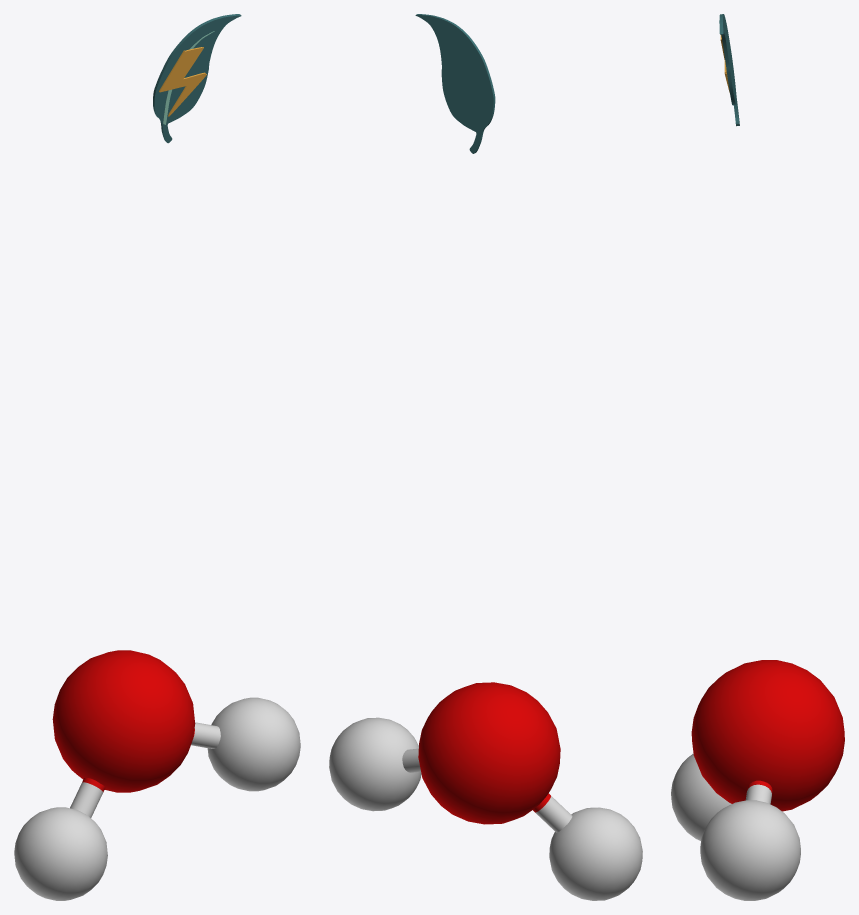
Rendered from ang.glb.
3 views of the same model, side by side, from view 1: azimuth 30°, elevation 25°; view 2: azimuth 150°, elevation 25°; view 3: azimuth 270°, elevation 25° (orthographic). The views are drawn at different scales.
Parts seen in each view (by area): view 1: AGUA_glss, path182, path186; view 2: AGUA_glss, path182; view 3: AGUA_glss, path182.
Boxes of the visible parts, left/top/right/bottom form: AGUA_glss: left=14, top=650, right=300, bottom=900; path182: left=153, top=14, right=241, bottom=143; path186: left=159, top=47, right=206, bottom=116; AGUA_glss: left=329, top=682, right=642, bottom=900; path182: left=415, top=14, right=495, bottom=153; AGUA_glss: left=671, top=660, right=844, bottom=900; path182: left=719, top=14, right=739, bottom=126.
Size of the model in its own units: 2.06 by 5.76 by 1.
